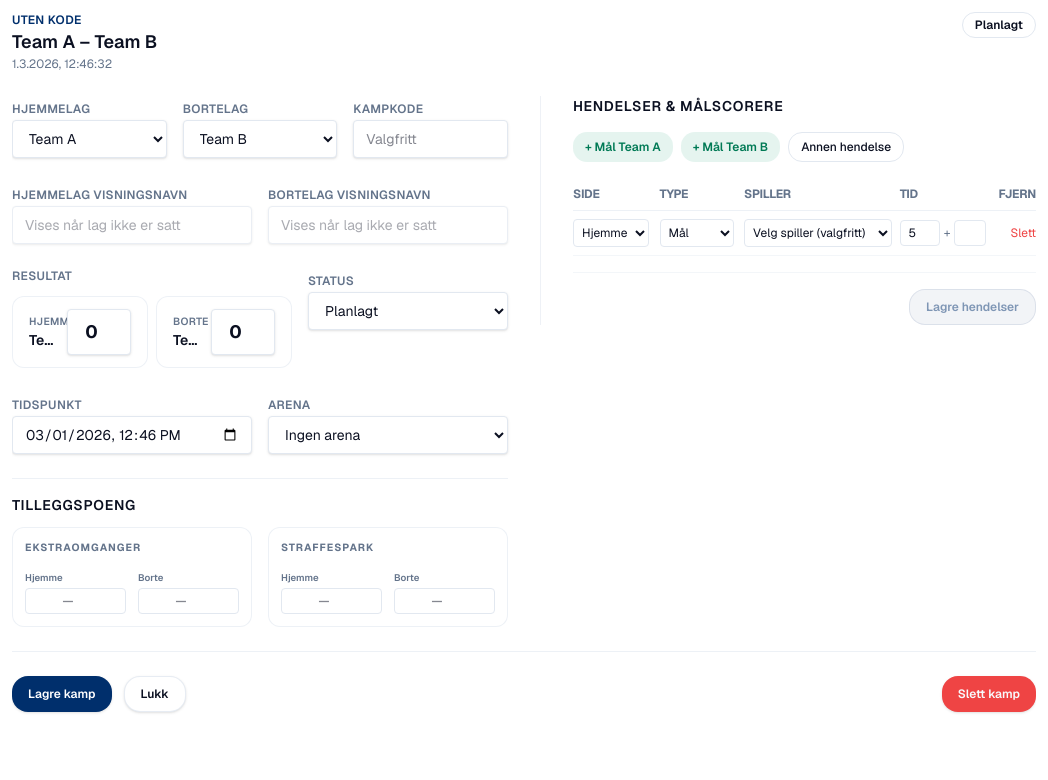
MatchEditorCard event sync › does not override dirty events when match detail updates
The image size is (1048, 780).
Check: the button "Slett" is shown, box [1010, 225, 1036, 241]
Click the button "Annen hendelse" at (846, 147), box [788, 132, 904, 162]
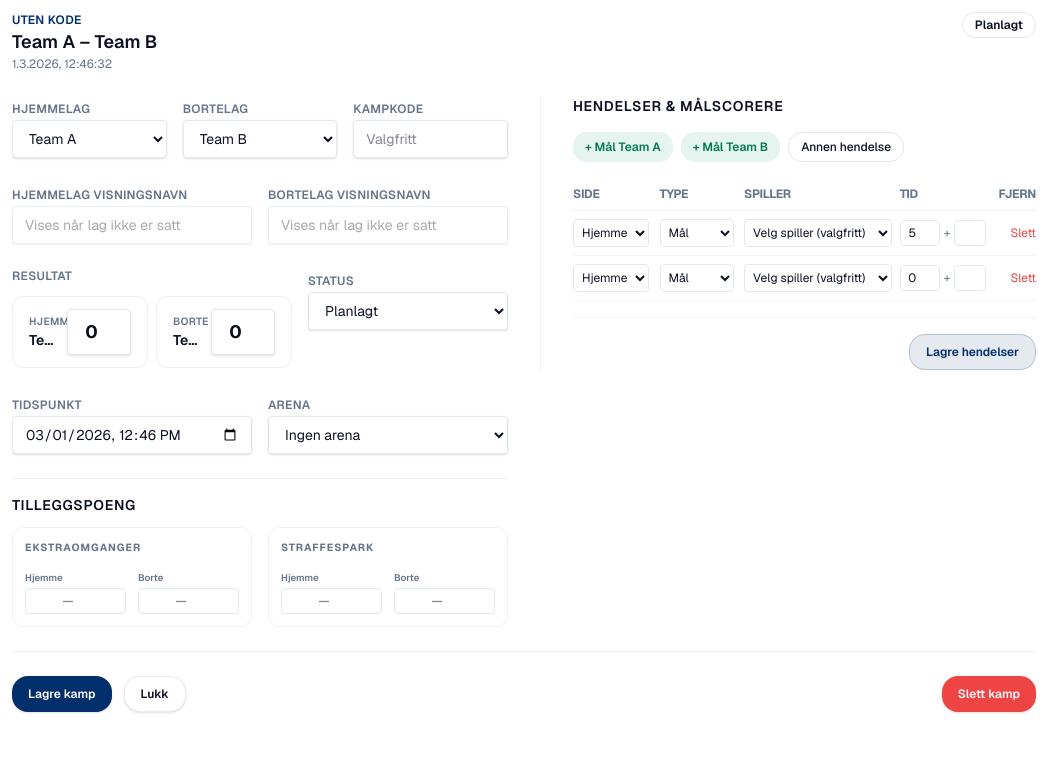
Check: the number of buttons "Slett" is 2, box [1010, 225, 1036, 241]; [1010, 270, 1036, 286]
